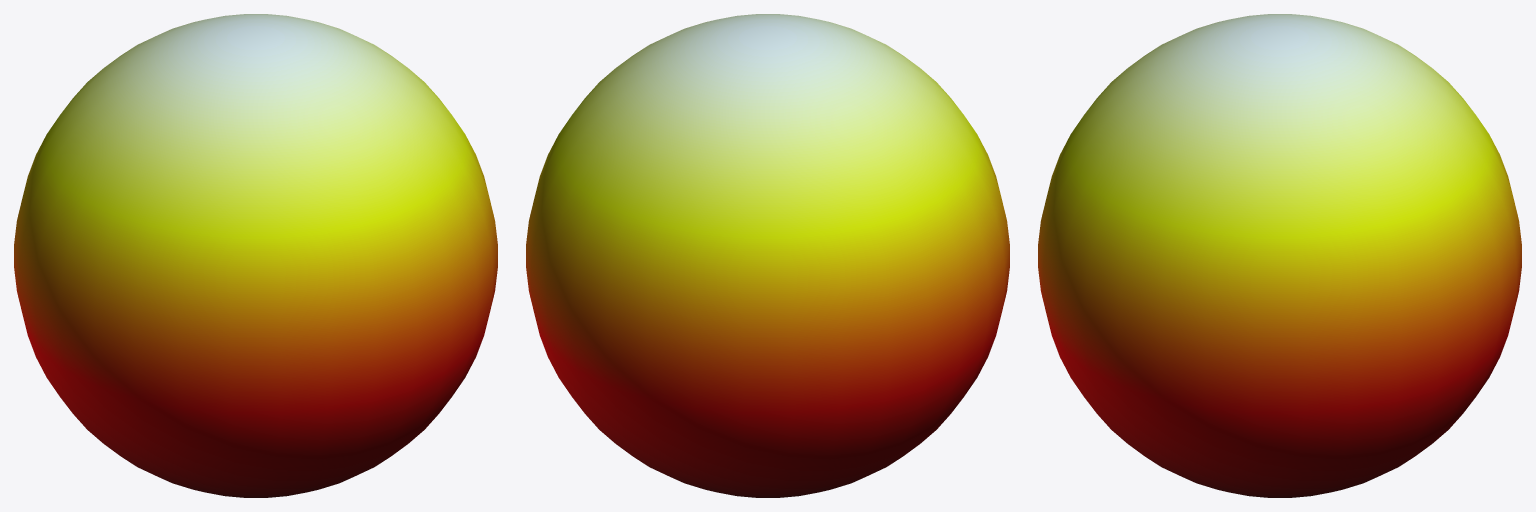
Rendered from test_interactive.gltf.
The picture shows the model from 3 angles, left to right: view 1: azimuth 30°, elevation 25°; view 2: azimuth 150°, elevation 25°; view 3: azimuth 270°, elevation 25°; orthographic projection.
Visible parts, largest first — view 1: Renderer Node; view 2: Renderer Node; view 3: Renderer Node.
Boxes of the visible parts, x1,y1,x2,y2 form: Renderer Node: (14, 14, 497, 497); Renderer Node: (526, 14, 1009, 497); Renderer Node: (1038, 14, 1521, 497).
Bounding box in the file's own units: 19.86 × 20 × 19.97.
1 material, 1 textured.
